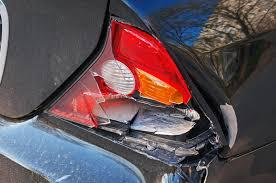Taillight-Damage: (52, 11, 230, 169)
